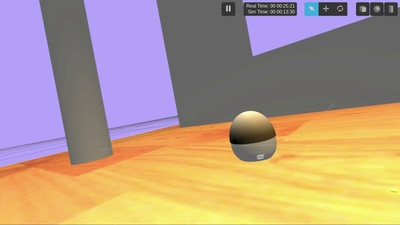mira_robot: (230, 111, 277, 162)
